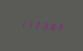eight: (50, 20, 57, 32)
one: (17, 17, 24, 29), (25, 18, 32, 30)
three: (42, 20, 49, 31)
two: (58, 21, 65, 33), (34, 19, 41, 30)
